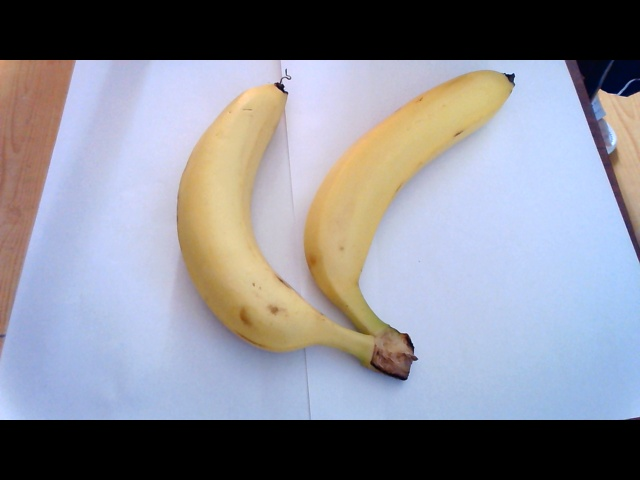banana: (311, 64, 521, 356), (152, 78, 302, 363)
